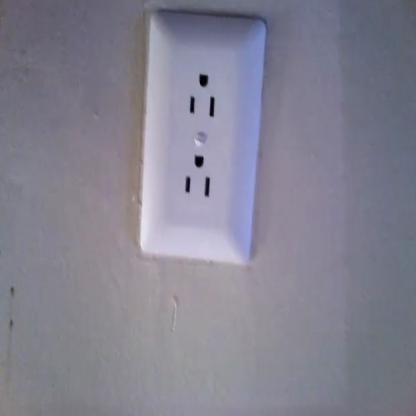OUTLET: (138, 18, 267, 259)
